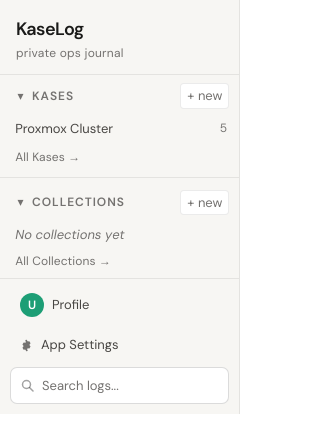
it: LeftNav — pinned Kases › context menu closes after action
Step 1. Right-click the element with test id "nav-kase-k1" → (64, 128), box [15,120,227,137]
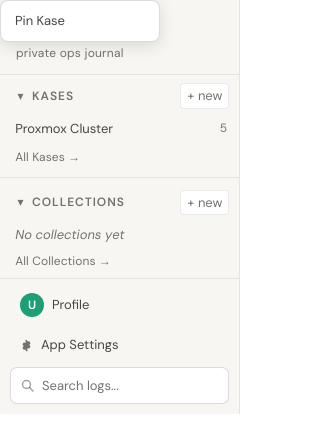
Expected: the button with test id "context-menu-pin-action" is shown
Step 2. Click the button with test id "context-menu-pin-action" → (80, 21), box [5,5,155,36]
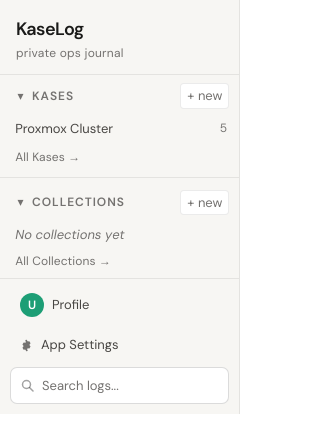
Expected: the element with test id "kase-context-menu" is gone
